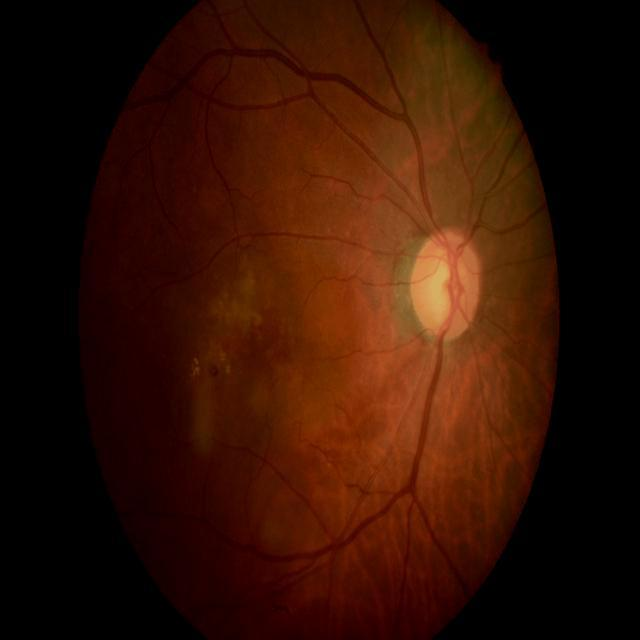cup: (430, 246, 466, 330)
disk: (409, 228, 481, 342)
